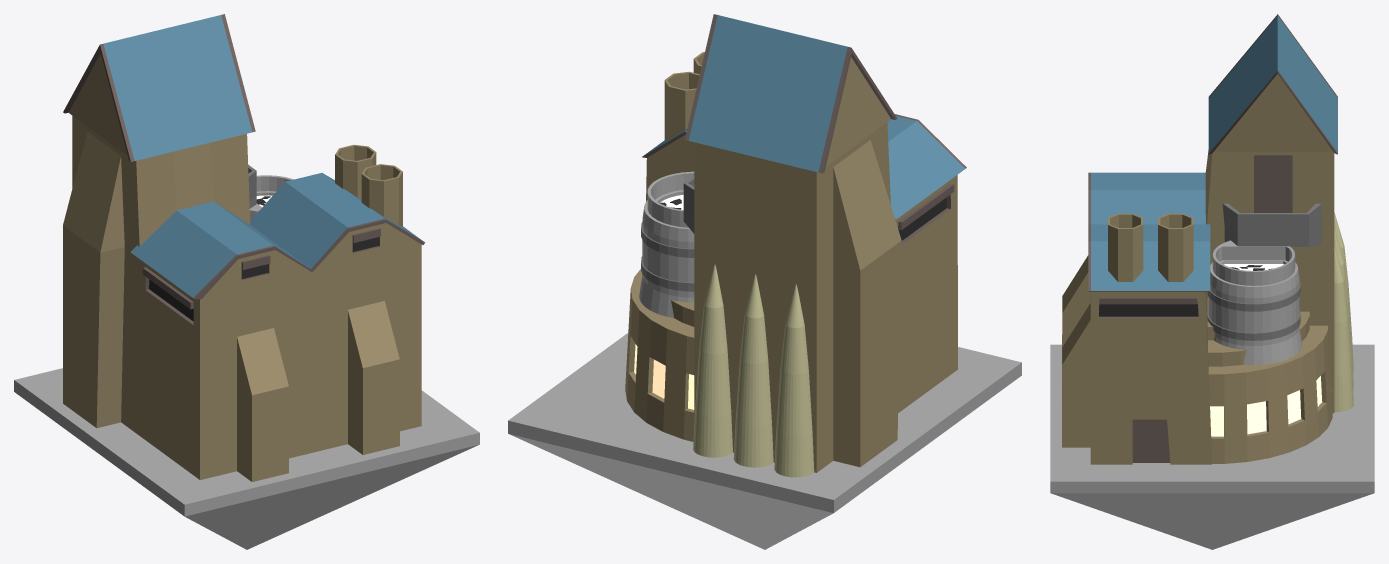
The model's file is Building Forge T3.fbx.
3 views of the same model, side by side, from view 1: azimuth 30°, elevation 25°; view 2: azimuth 150°, elevation 25°; view 3: azimuth 270°, elevation 25° (orthographic). The views are drawn at different scales.
Visible parts, largest first — view 1: Forge T3; view 2: Forge T3; view 3: Forge T3.
Boxes of the visible parts, bbox=[...] form: Forge T3: bbox=[14, 14, 479, 549]; Forge T3: bbox=[508, 14, 1021, 549]; Forge T3: bbox=[1050, 14, 1374, 549].
Bounding box in the file's own units: 1599 × 2629 × 1599.
